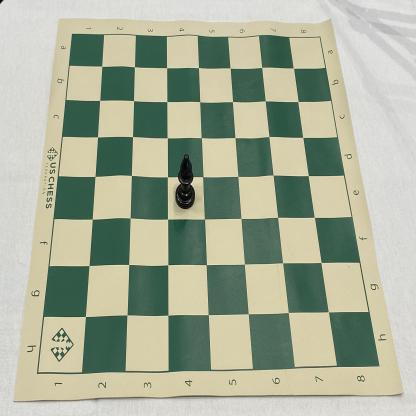black-bishop: (174, 153, 196, 210)
